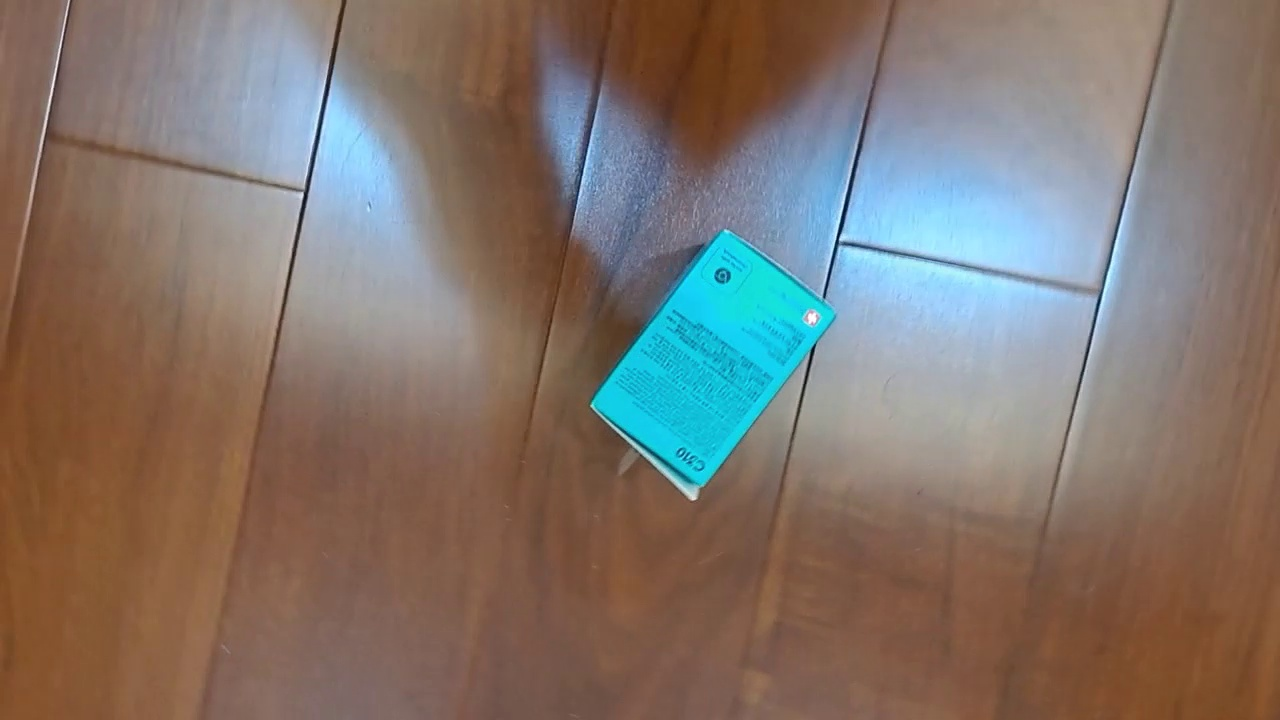webcam: (587, 226, 838, 502)
